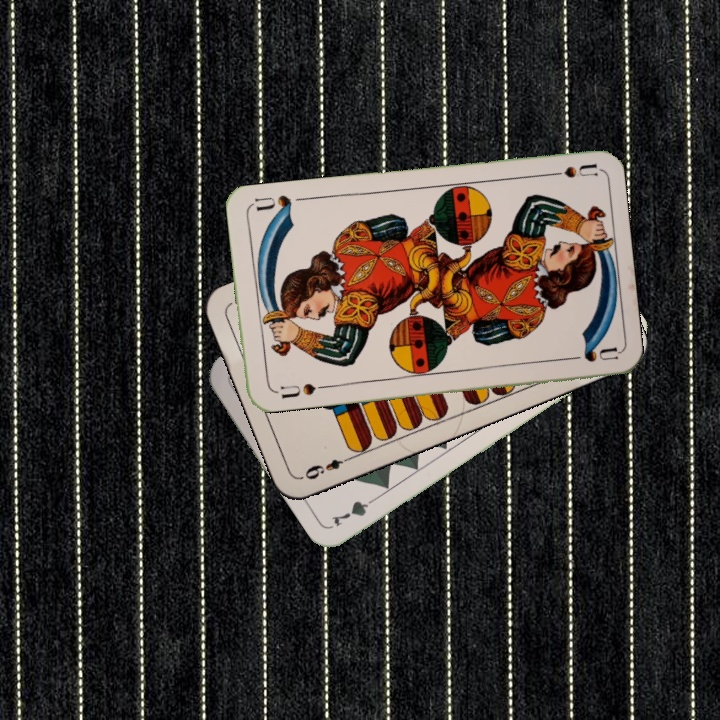E9: (298, 452, 354, 483)
G7: (327, 491, 383, 530)
SU: (539, 159, 598, 181), (276, 379, 329, 401)
